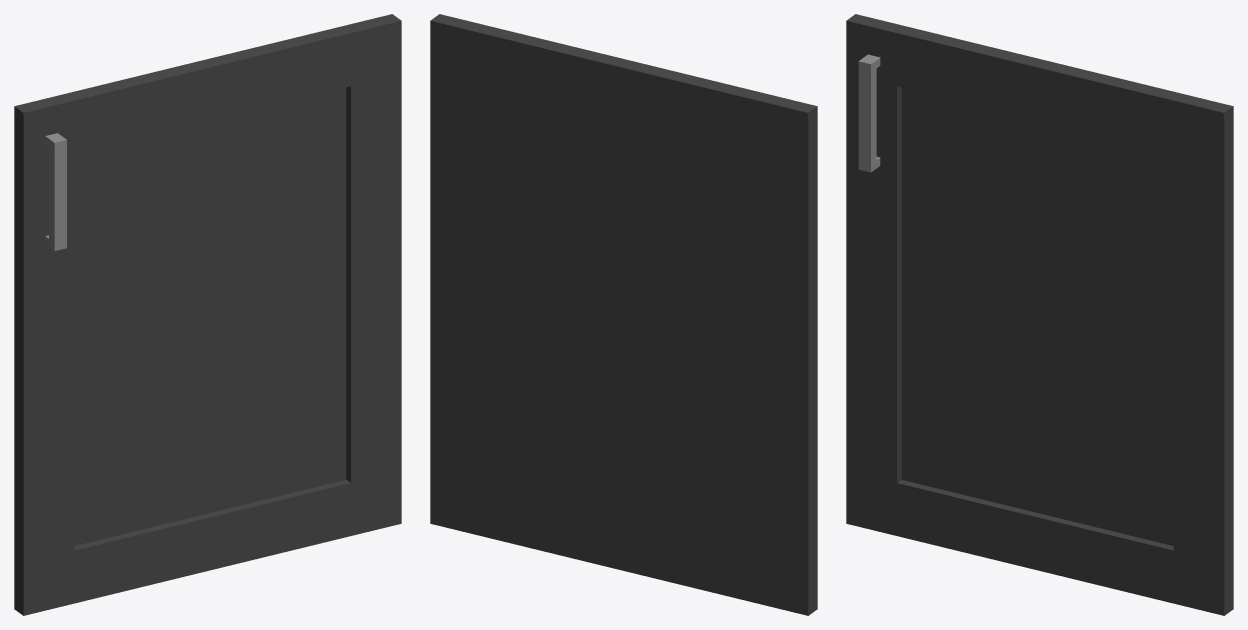
Rendered from Door2_C3_01.fbx.
The picture shows the model from 3 angles, left to right: view 1: azimuth 30°, elevation 25°; view 2: azimuth 150°, elevation 25°; view 3: azimuth 330°, elevation 25°; orthographic projection.
Visible parts, largest first — view 1: Door2_C3_01; view 2: Door2_C3_01; view 3: Door2_C3_01.
Part boxes in pixels (box(x1,y1,x2,y2)): Door2_C3_01: box(14, 14, 401, 615); Door2_C3_01: box(430, 14, 817, 615); Door2_C3_01: box(846, 14, 1233, 615).
Size of the model in its own units: 59 by 75 by 5.03.
